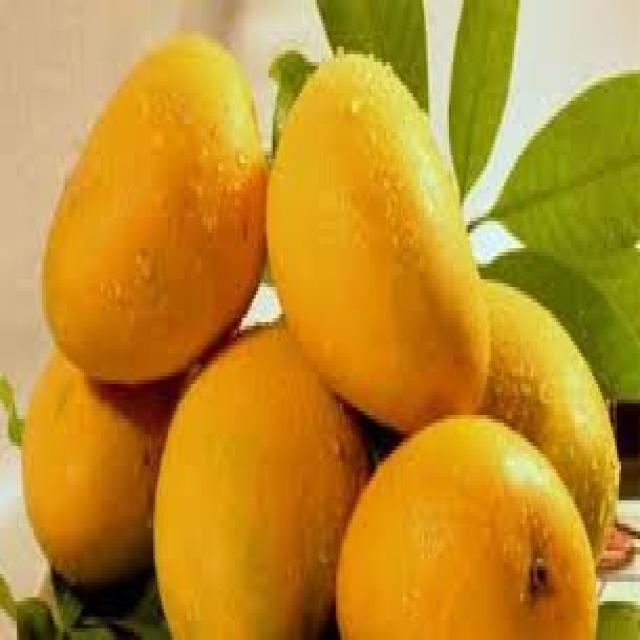mango: (269, 54, 516, 434)
